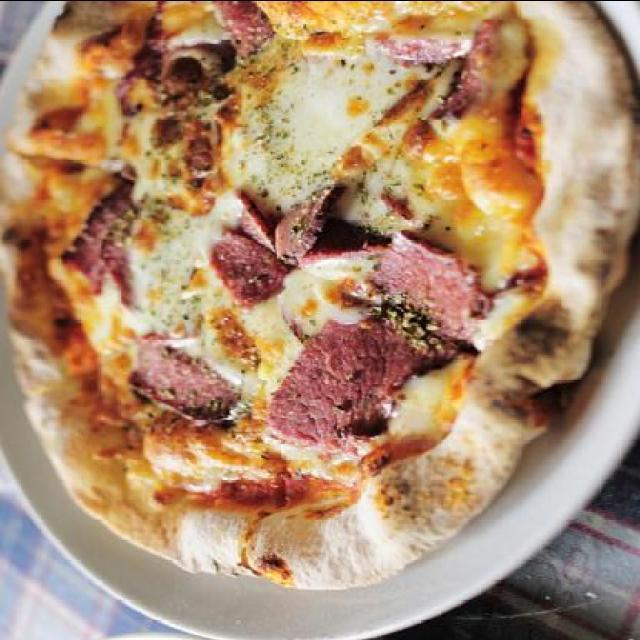Pizza: (0, 25, 617, 598)
